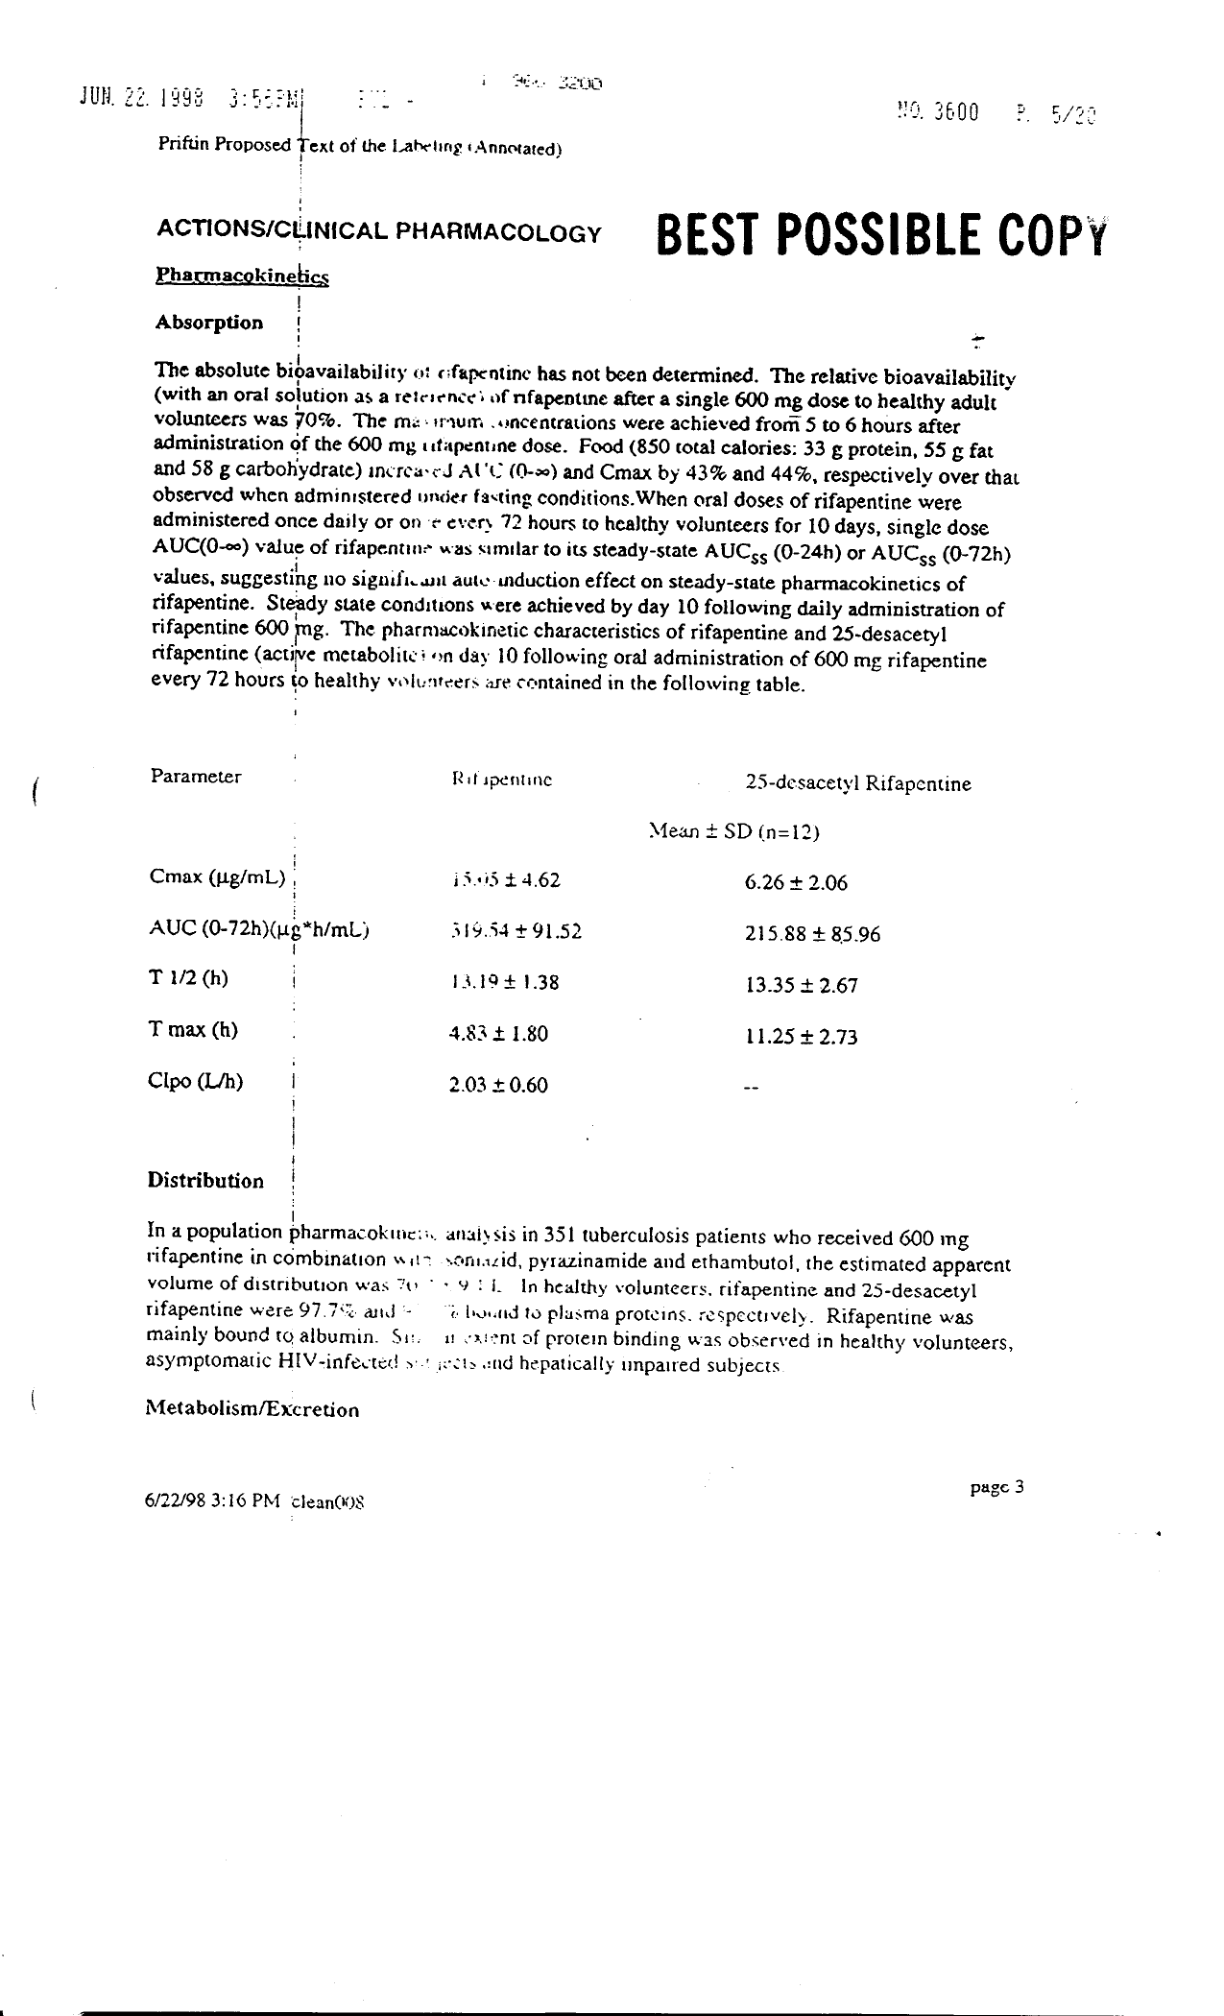nolines: (143, 762, 976, 1102)
